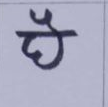ai_matra: (32, 9, 63, 32)
